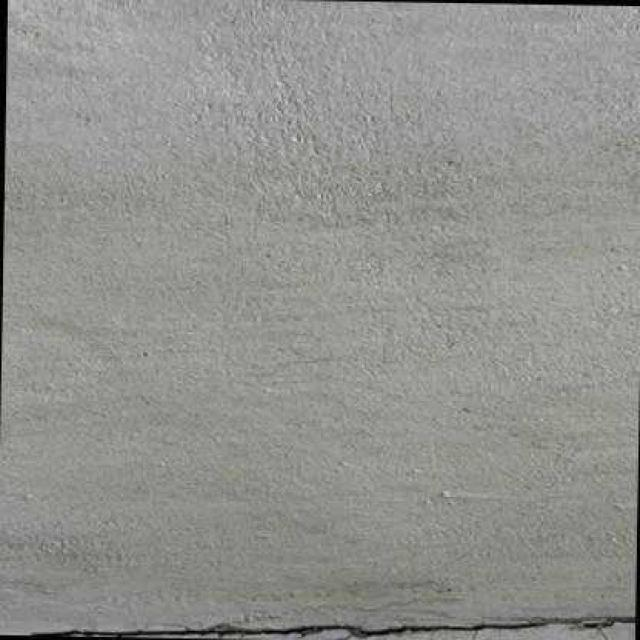D00: (9, 615, 635, 638)
